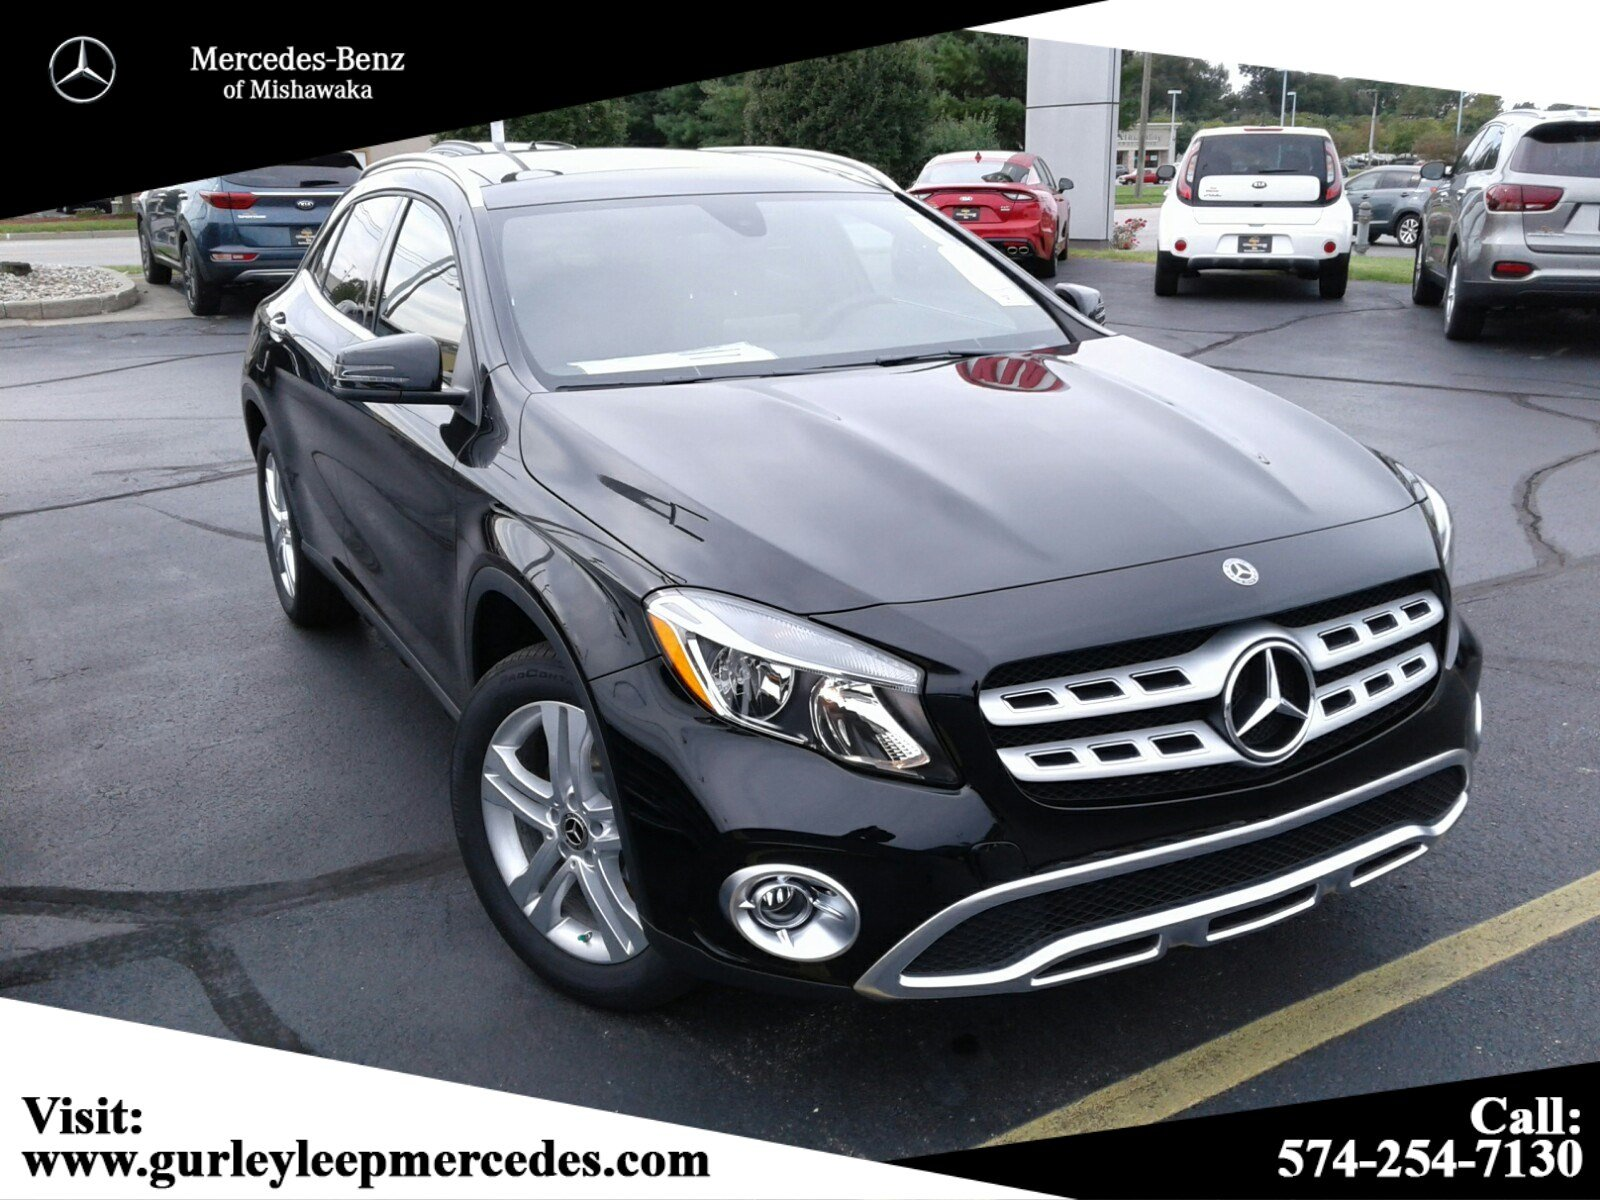gla: (207, 137, 1532, 1046)
